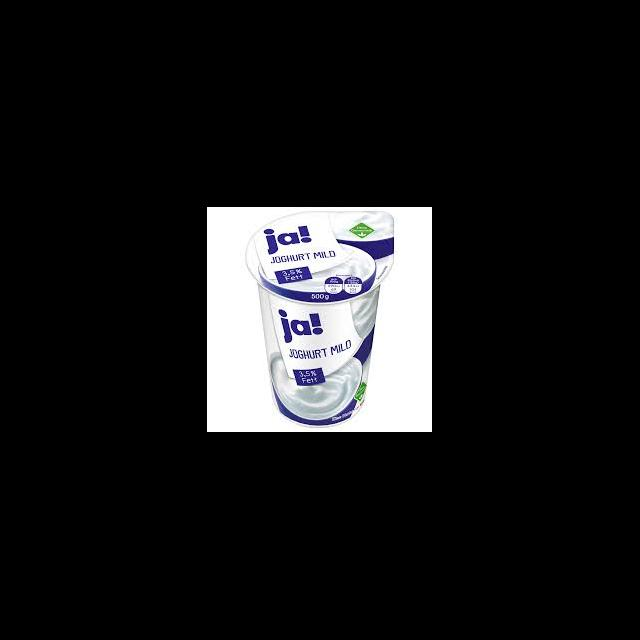plastic: (244, 210, 394, 427)
